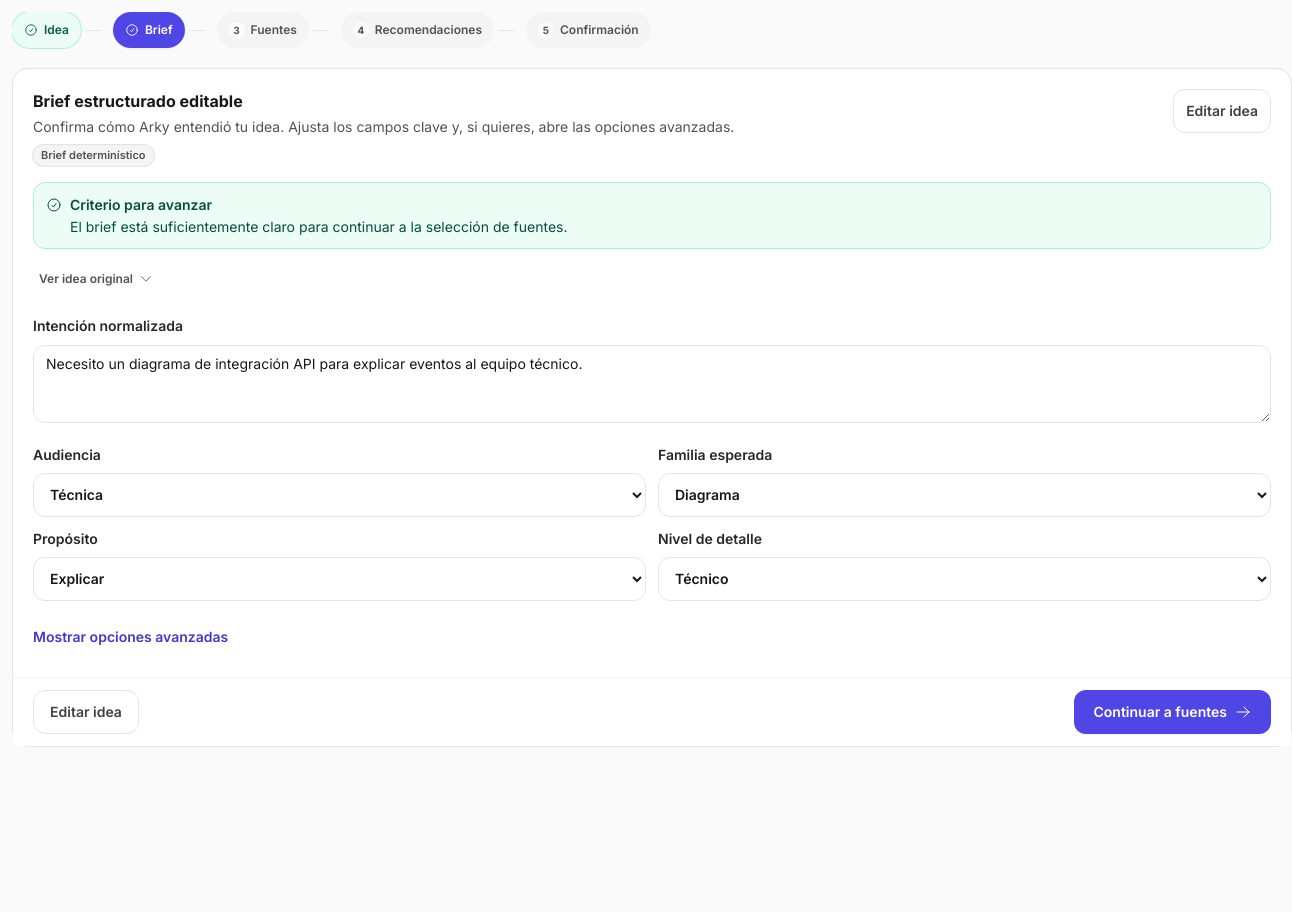
Test: CustomArtifactBriefWizard › muestra la idea original colapsada en el paso 2
Click the button "Ver idea original" at point(96, 279), box [33, 261, 159, 297]
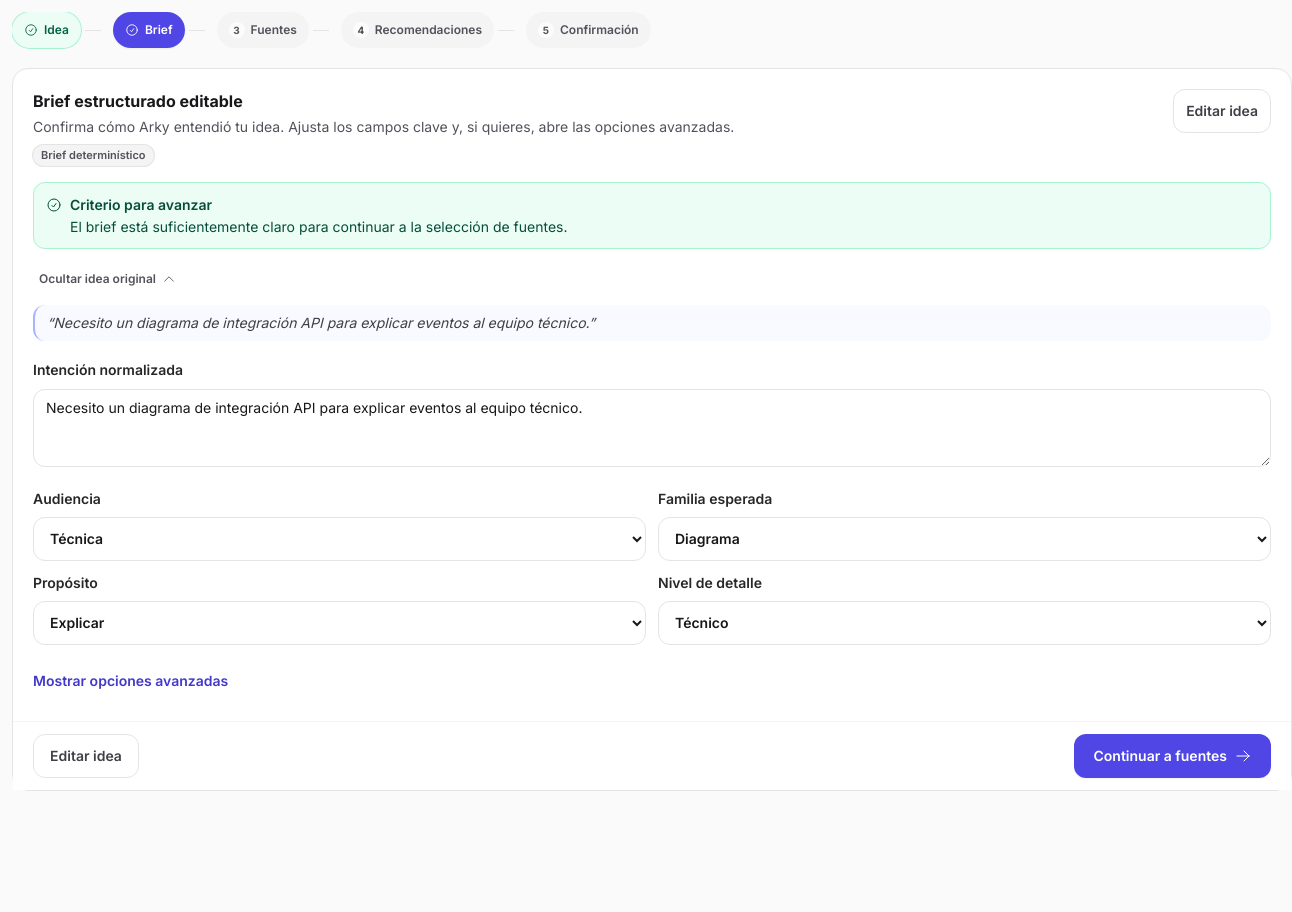
Now the text "“Necesito un diagrama de integración API" is shown, box [33, 305, 1271, 341]
